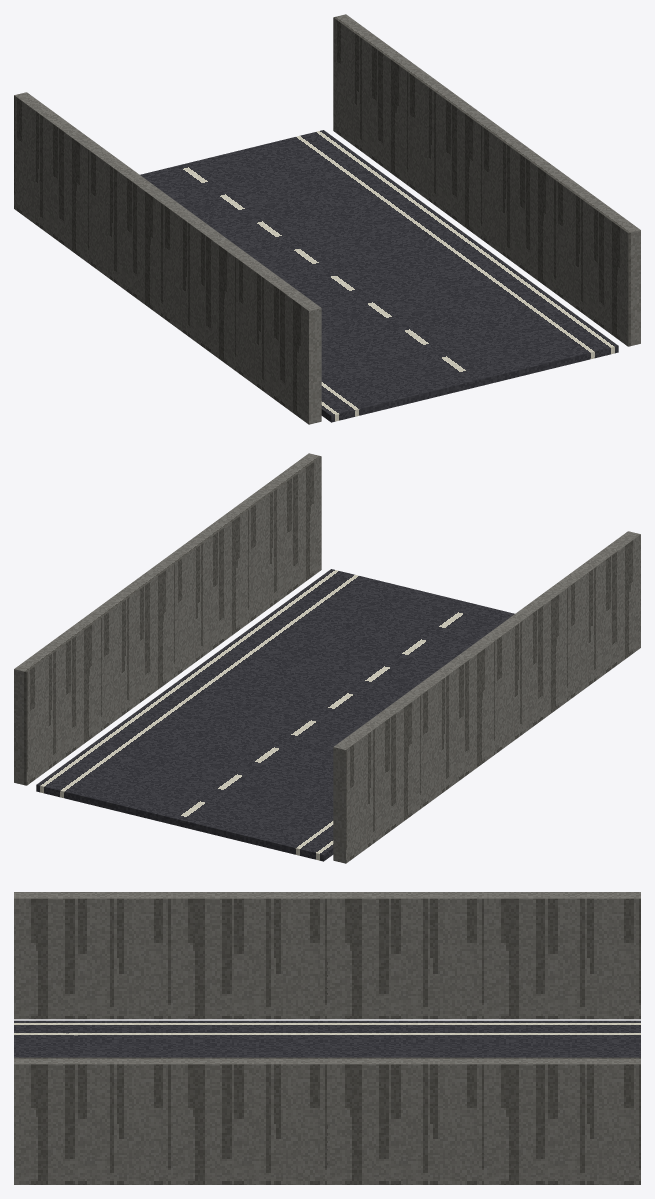
File: env_underpass_road.glb
3 renders of one model, top to bottom at view 1: azimuth 30°, elevation 25°; view 2: azimuth 150°, elevation 25°; view 3: azimuth 270°, elevation 25°, orthographic. The views are drawn at different scales.
Parts seen in each view (by area): view 1: env_underpass_road; view 2: env_underpass_road; view 3: env_underpass_road.
Boxes of the visible parts, x1=… form: env_underpass_road: x1=14, y1=14, x2=640, y2=424; env_underpass_road: x1=14, y1=453, x2=640, y2=863; env_underpass_road: x1=14, y1=892, x2=640, y2=1184.
Bounding box in the file's own units: 10.4 × 3.5 × 16.
2 materials, 2 textured.
